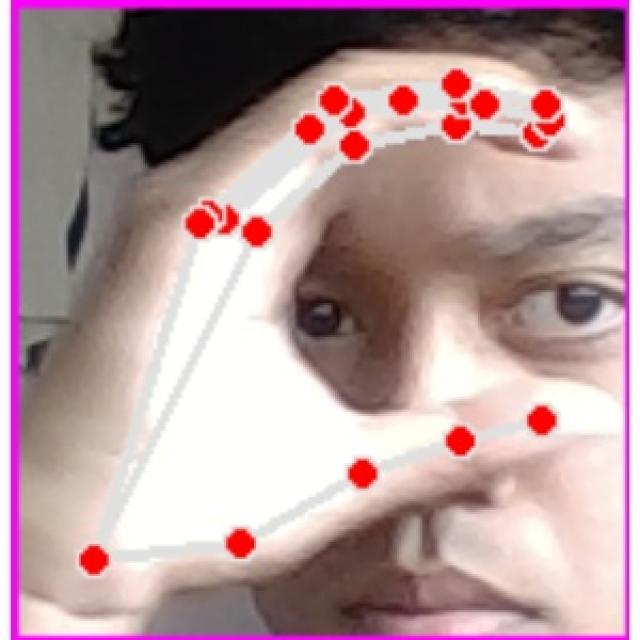C: (30, 48, 616, 594)
